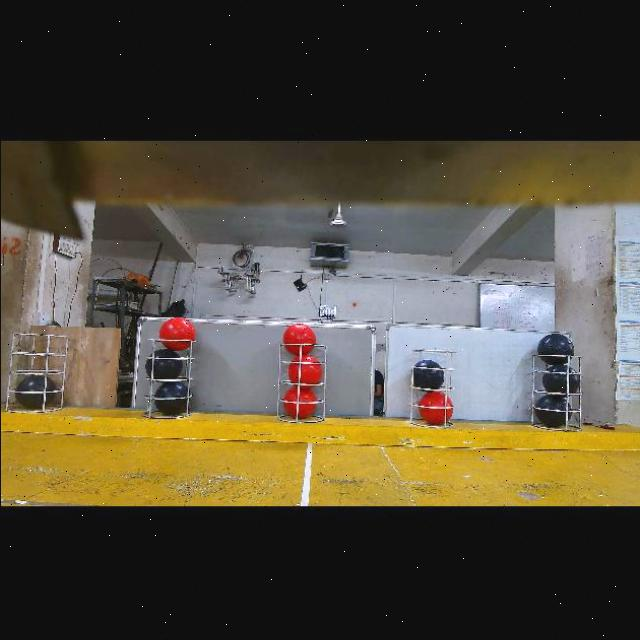P: (14, 373, 56, 409), (533, 392, 572, 426), (153, 379, 188, 414), (536, 333, 574, 365), (144, 348, 181, 380), (542, 362, 580, 393), (412, 359, 443, 388)
R: (158, 315, 195, 350), (286, 352, 322, 387), (281, 322, 316, 354), (419, 389, 450, 424), (283, 385, 316, 417)
S: (139, 332, 199, 418), (527, 346, 589, 426), (279, 340, 327, 424), (14, 331, 66, 407), (403, 344, 452, 424)
